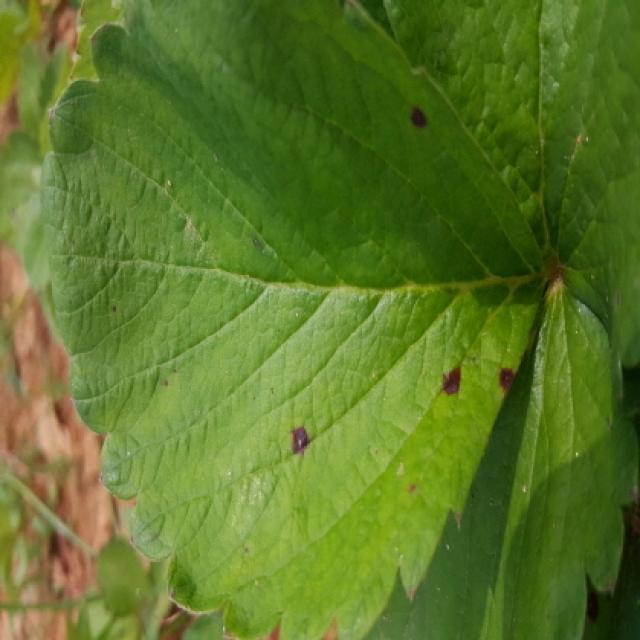Leaf Spot: (40, 0, 553, 638)
